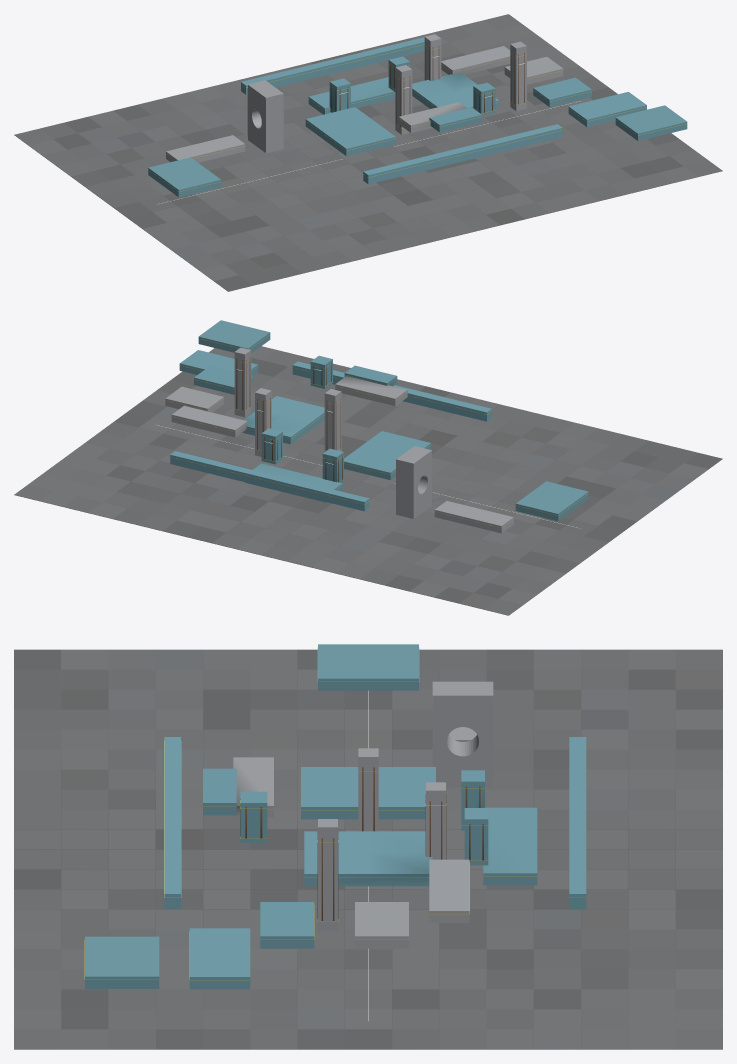
Rendered from 01_world.glb.
3 renders of one model, top to bottom at view 1: azimuth 30°, elevation 25°; view 2: azimuth 150°, elevation 25°; view 3: azimuth 270°, elevation 25°, orthographic. The views are drawn at different scales.
Visible parts, largest first — view 1: world_01_floor_noshadow_nocol, world_11_floor_noshadow_nocol, world_00_floor_noshadow_nocol, world_11_foam_nocol, world_10_floor_noshadow_nocol, world_10_foam_nocol, world_01_foam_nocol, world_00_body_nocol, world_11_body_nocol, world_10_body_nocol, world_11_panel_noshadow_nocol, world_11_trim_noshadow_nocol; view 2: world_01_floor_noshadow_nocol, world_00_floor_noshadow_nocol, world_10_floor_noshadow_nocol, world_11_floor_noshadow_nocol, world_11_foam_nocol, world_10_foam_nocol, world_01_foam_nocol, world_00_body_nocol, world_11_body_nocol, world_10_body_nocol, world_11_panel_noshadow_nocol; view 3: world_01_floor_noshadow_nocol, world_11_floor_noshadow_nocol, world_10_floor_noshadow_nocol, world_00_floor_noshadow_nocol, world_11_foam_nocol, world_01_foam_nocol, world_10_foam_nocol, world_10_body_nocol, world_00_body_nocol, world_11_body_nocol, world_11_panel_noshadow_nocol, world_11_trim_noshadow_nocol.
Part boxes in pixels (x1,y1,x2,y2): world_01_floor_noshadow_nocol: (114, 151, 475, 291); world_11_floor_noshadow_nocol: (367, 87, 722, 231); world_00_floor_noshadow_nocol: (14, 74, 341, 212); world_11_foam_nocol: (363, 72, 687, 184); world_10_floor_noshadow_nocol: (261, 14, 608, 145); world_10_foam_nocol: (241, 37, 424, 114); world_01_foam_nocol: (148, 107, 395, 197); world_00_body_nocol: (166, 80, 283, 162); world_11_body_nocol: (395, 41, 526, 134); world_10_body_nocol: (424, 34, 563, 84); world_11_panel_noshadow_nocol: (396, 51, 524, 126); world_11_trim_noshadow_nocol: (364, 53, 686, 177); world_01_floor_noshadow_nocol: (362, 398, 722, 542); world_00_floor_noshadow_nocol: (261, 482, 615, 615); world_10_floor_noshadow_nocol: (14, 421, 366, 555); world_11_floor_noshadow_nocol: (114, 346, 474, 481); world_11_foam_nocol: (179, 320, 491, 444); world_10_foam_nocol: (170, 428, 369, 511); world_01_foam_nocol: (344, 431, 588, 521); world_00_body_nocol: (396, 446, 513, 533); world_11_body_nocol: (234, 347, 407, 451); world_10_body_nocol: (165, 386, 271, 456); world_11_panel_noshadow_nocol: (236, 357, 340, 449); world_01_floor_noshadow_nocol: (14, 649, 391, 849); world_11_floor_noshadow_nocol: (14, 849, 391, 1049); world_10_floor_noshadow_nocol: (368, 849, 722, 1049); world_00_floor_noshadow_nocol: (379, 649, 722, 849); world_11_foam_nocol: (85, 737, 432, 989); world_01_foam_nocol: (301, 644, 435, 819); world_10_foam_nocol: (461, 737, 586, 909); world_10_body_nocol: (355, 782, 469, 948); world_00_body_nocol: (432, 681, 493, 787); world_11_body_nocol: (233, 748, 378, 931); world_11_panel_noshadow_nocol: (240, 767, 374, 920); world_11_trim_noshadow_nocol: (84, 741, 428, 980).
Size of the model in its own units: 280 by 45.12 by 210.
